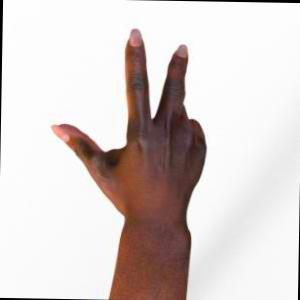scissors: (51, 28, 204, 300)
